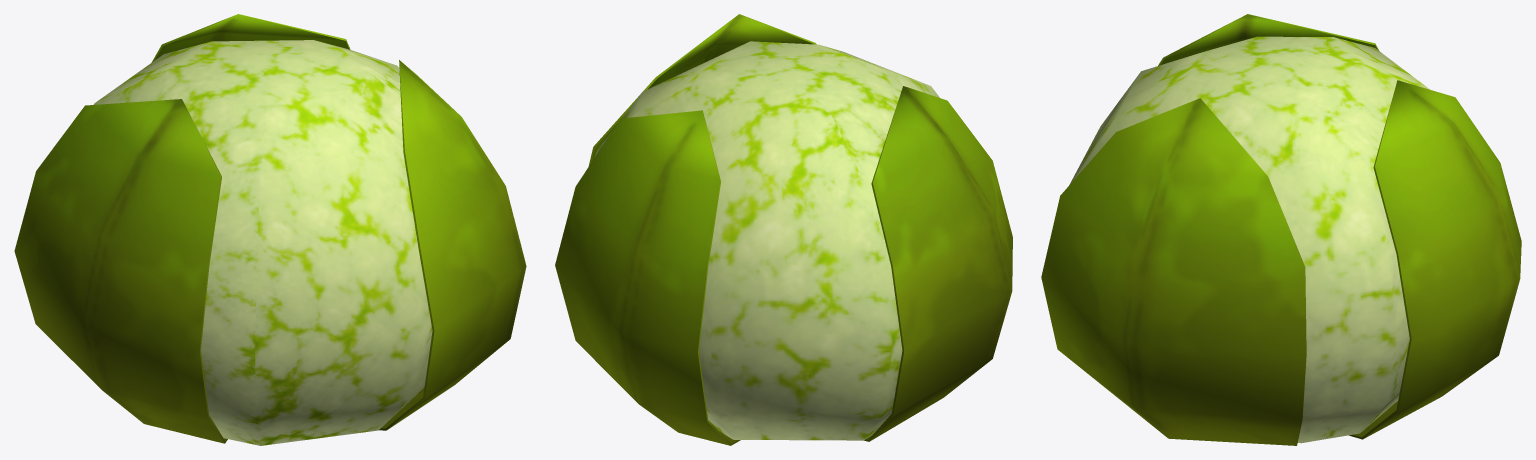
The model's file is Vegetables01_3.FBX.
The picture shows the model from 3 angles, left to right: view 1: azimuth 30°, elevation 25°; view 2: azimuth 150°, elevation 25°; view 3: azimuth 270°, elevation 25°; orthographic projection. The views are drawn at different scales.
Visible parts, largest first — view 1: Vegetables01_3; view 2: Vegetables01_3; view 3: Vegetables01_3.
Boxes of the visible parts, <box> form: Vegetables01_3: <box>14,14,526,445</box>; Vegetables01_3: <box>555,14,1012,445</box>; Vegetables01_3: <box>1041,14,1521,445</box>.
Size of what is drawn, in the model's own units: 0.3069 by 0.2479 by 0.3111.
